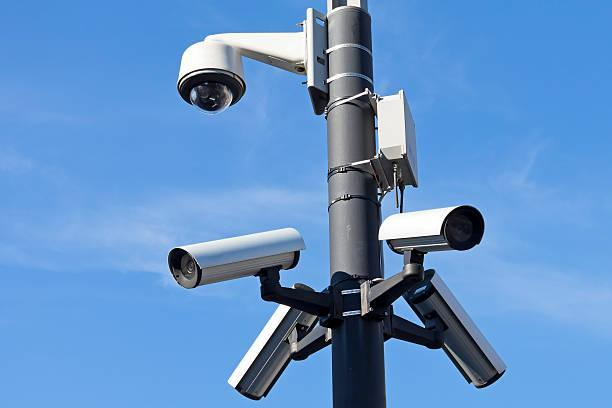------------------------------: (164, 224, 307, 289), (378, 202, 494, 259)
360-Cam: (174, 37, 250, 118)
